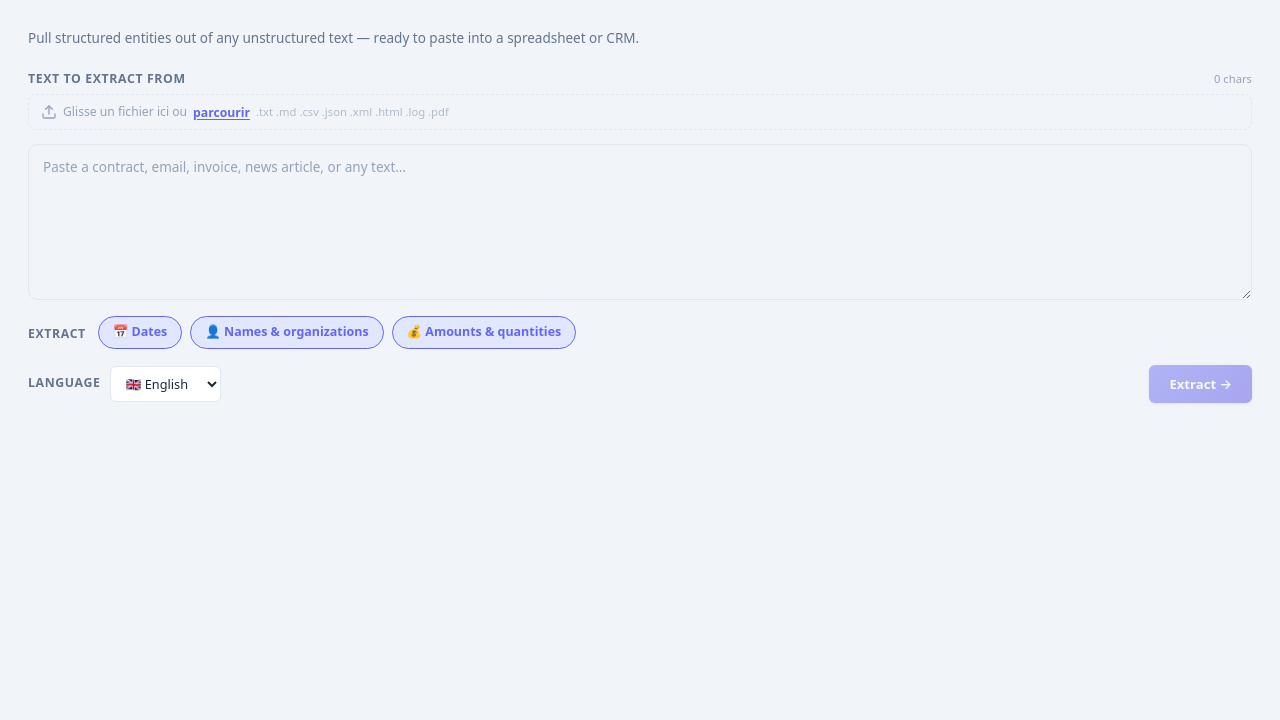
Test: ExtractAnalyzer › shows extracted results on success
Type "Alice met on March 3rd." into the text box labelled "Text to extract from".
click(640, 222); type("Alice met on March 3rd.")  # box x1=28 y1=144 x2=1252 y2=300
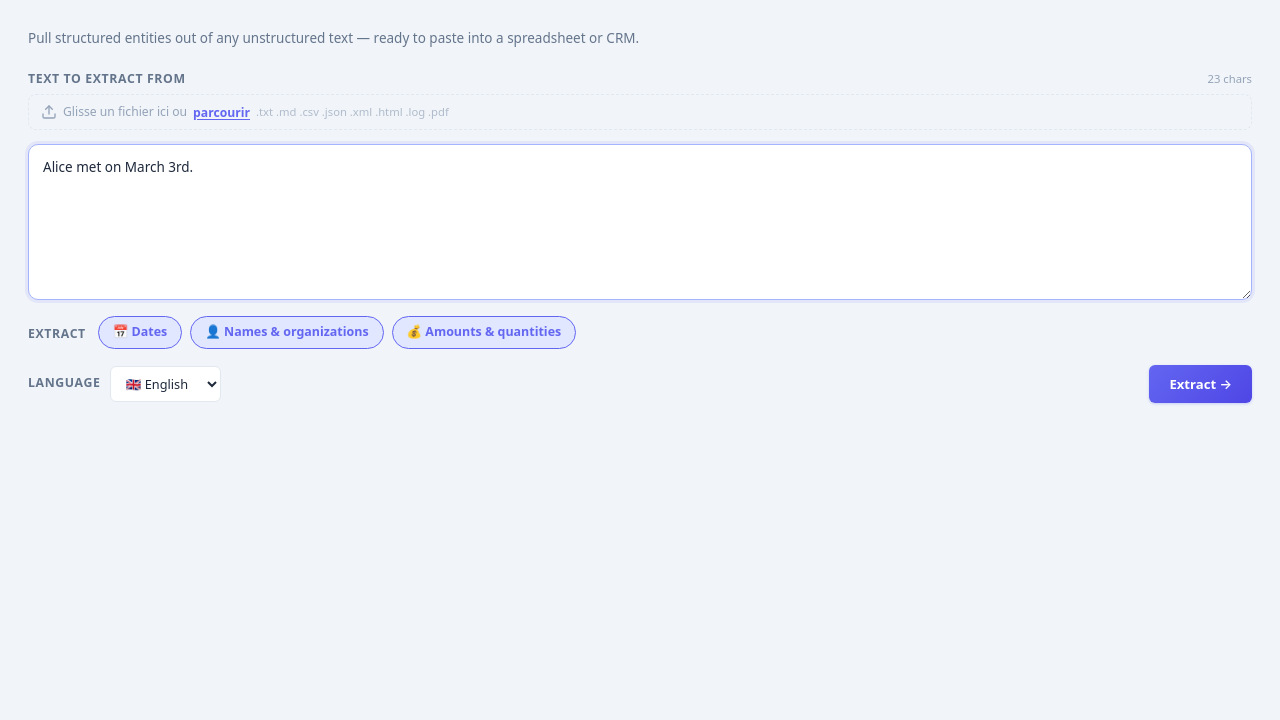
Click the button "Extract →".
click(1201, 384)  # box x1=1149 y1=364 x2=1252 y2=402
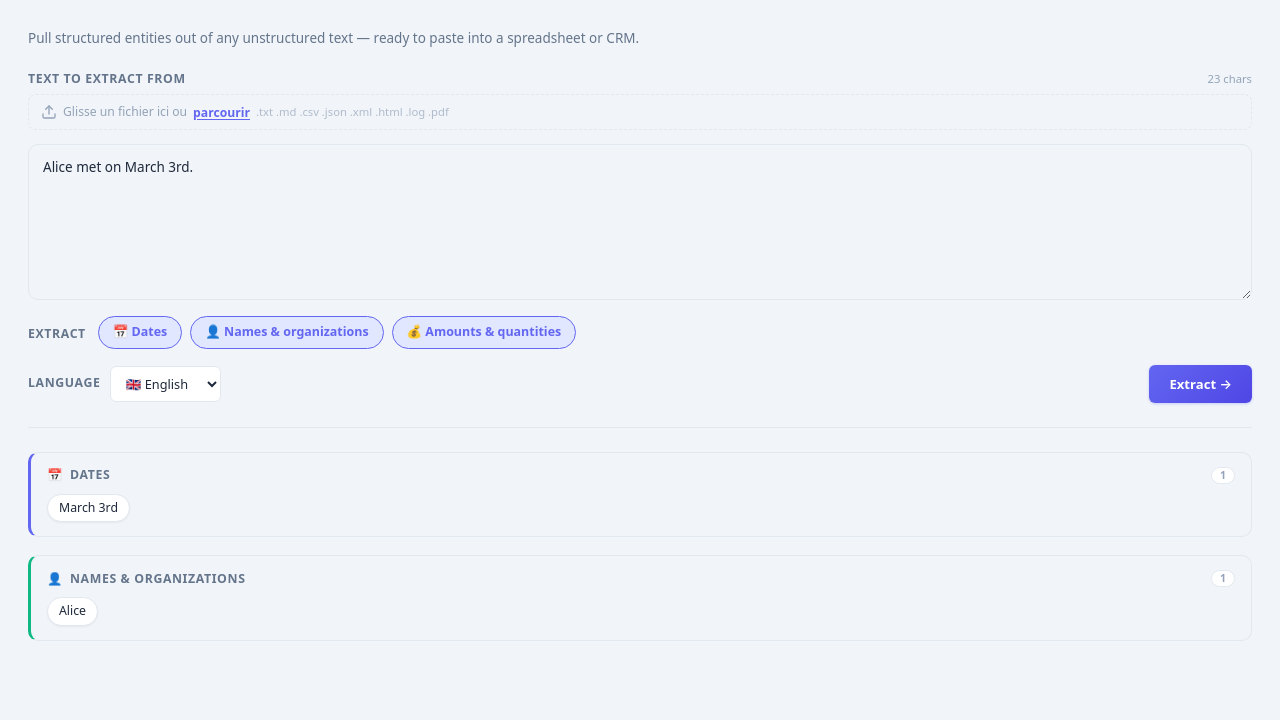
Check: the text "March 3rd" is shown, box x1=47 y1=494 x2=130 y2=522
Check: the text "Alice" is shown, box x1=47 y1=597 x2=98 y2=626
